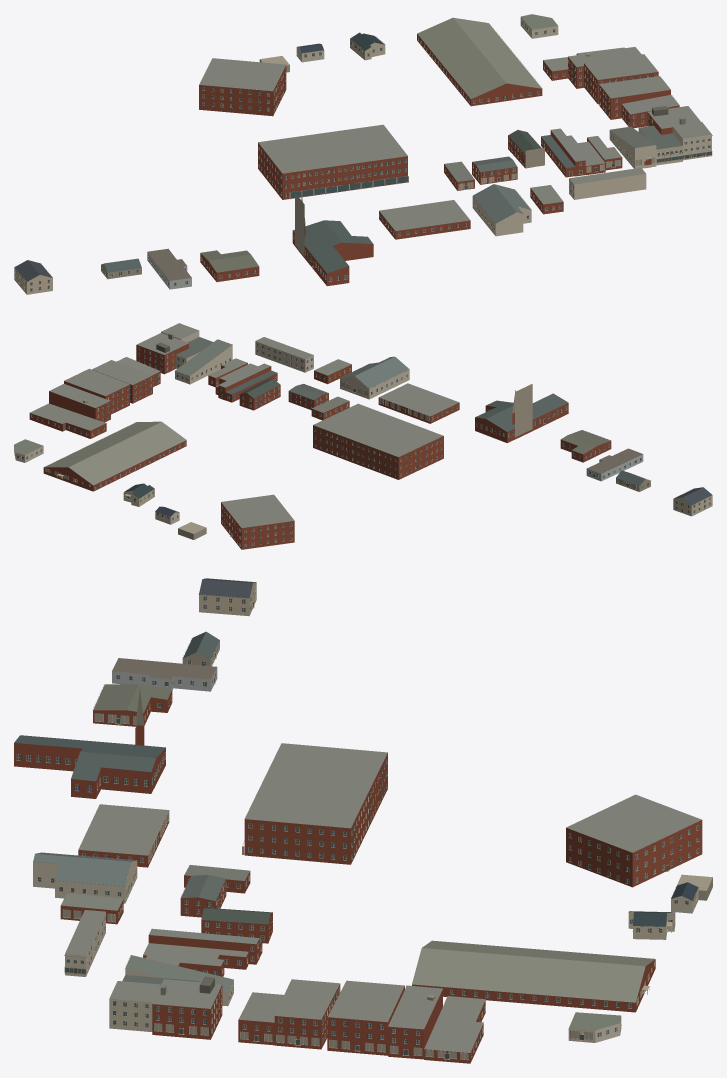
The picture shows the model from 3 angles, top to bottom: view 1: azimuth 30°, elevation 25°; view 2: azimuth 150°, elevation 25°; view 3: azimuth 270°, elevation 25°; orthographic projection. The views are drawn at different scales.
Parts seen in each view (by area): view 1: -1_-1_264946753_2, -1_-1_451755574_23, -1_-1_421471596_17; view 2: -1_-1_264946753_2, -1_-1_451755574_23, -1_-1_421471596_17, -1_-1_421471598_19; view 3: -1_-1_264946753_2, -1_-1_451755574_23, -1_-1_421471596_17, -1_-1_421471598_19.
Boxes of the visible parts, x1,y1,x2,y2 form: -1_-1_264946753_2: [14, 14, 712, 291]; -1_-1_451755574_23: [296, 17, 711, 236]; -1_-1_421471596_17: [14, 39, 385, 294]; -1_-1_264946753_2: [14, 323, 711, 549]; -1_-1_451755574_23: [14, 331, 409, 524]; -1_-1_421471596_17: [123, 489, 712, 516]; -1_-1_421471598_19: [586, 454, 643, 481]; -1_-1_264946753_2: [14, 578, 712, 1063]; -1_-1_451755574_23: [33, 860, 698, 1042]; -1_-1_421471596_17: [199, 582, 675, 939]; -1_-1_421471598_19: [112, 667, 217, 691].
Bounding box in the file's own units: 410 × 36.62 × 258.
